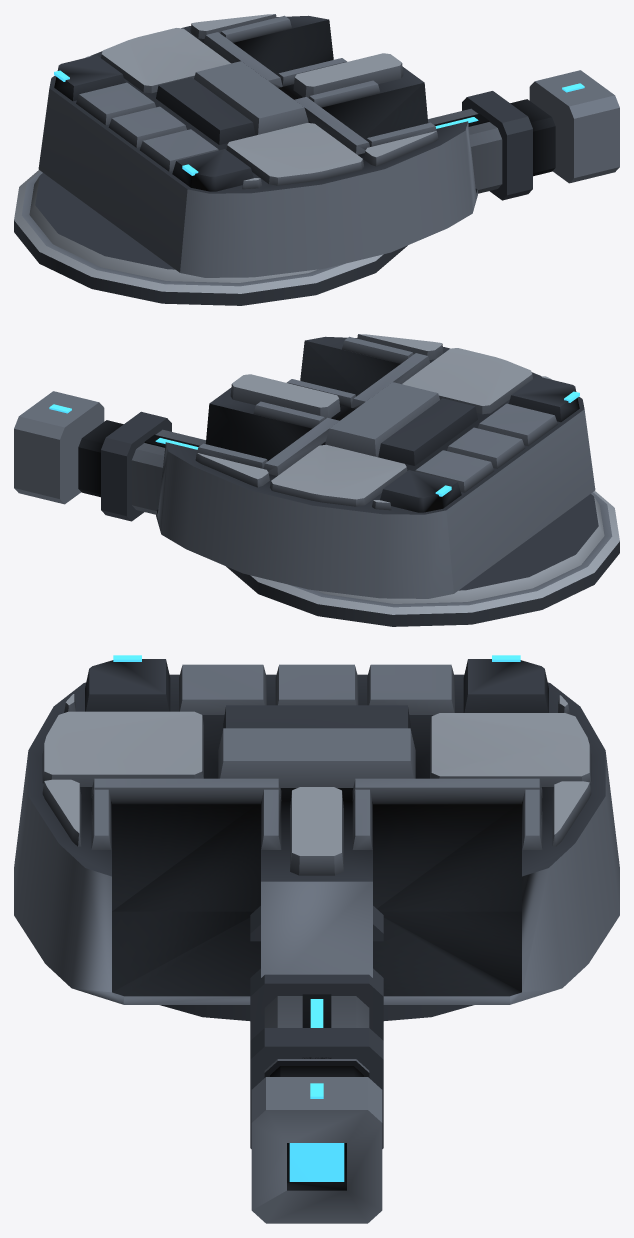
The model's file is tempest2_lod1.glb.
The picture shows the model from 3 angles, top to bottom: view 1: azimuth 30°, elevation 25°; view 2: azimuth 150°, elevation 25°; view 3: azimuth 270°, elevation 25°; orthographic projection. The views are drawn at different scales.
Visible parts, largest first — view 1: housing, ring, barrel; view 2: housing, ring, barrel; view 3: housing, barrel, ring.
Part boxes in pixels (left/top/right/bottom): housing: left=38, top=14, right=477, bottom=277; ring: left=14, top=170, right=407, bottom=305; barrel: left=428, top=70, right=619, bottom=200; housing: left=156, top=334, right=595, bottom=598; ring: left=226, top=491, right=619, bottom=626; barrel: left=14, top=391, right=205, bottom=521; housing: left=14, top=655, right=619, bottom=1004; barrel: left=250, top=906, right=383, bottom=1223; ring: left=160, top=1005, right=473, bottom=1020.
Size of the model in its own units: 36.46 by 9.75 by 23.2.
